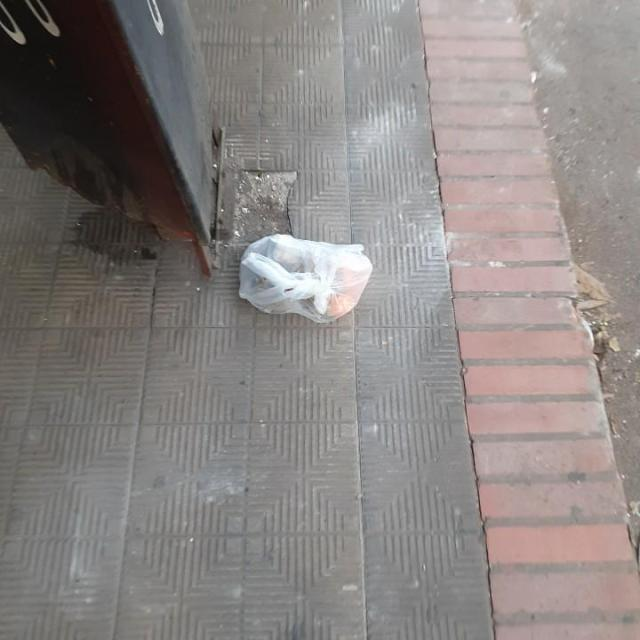litter: (237, 233, 372, 324)
